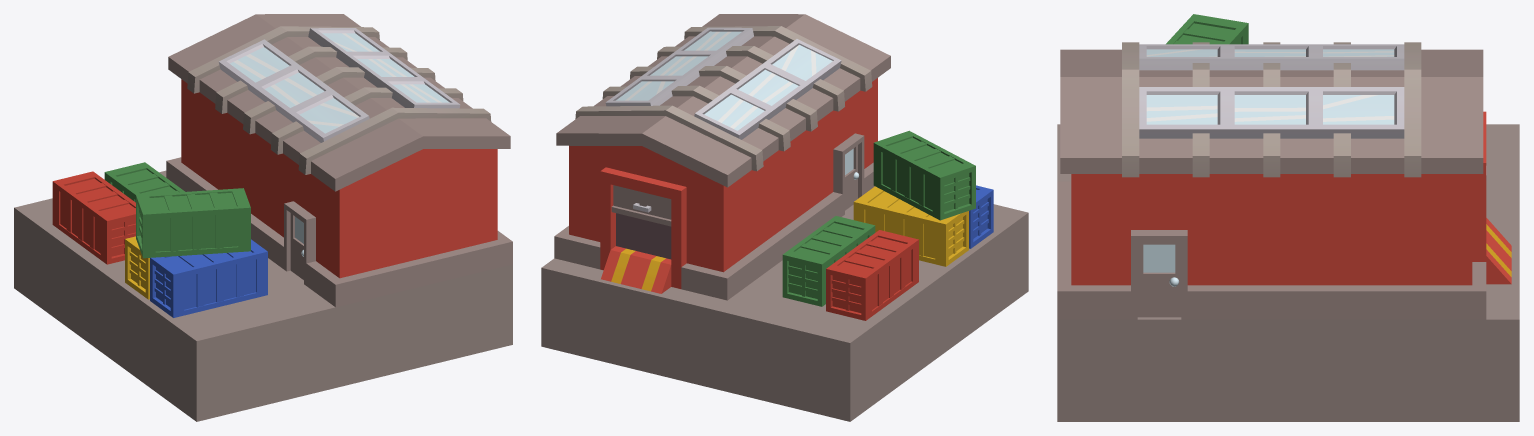
The model's file is Red_Warehouse.fbx.
3 renders of one model, left to right at view 1: azimuth 30°, elevation 25°; view 2: azimuth 150°, elevation 25°; view 3: azimuth 270°, elevation 25°, orthographic. The views are drawn at different scales.
Parts seen in each view (by area): view 1: Red_Warehouse; view 2: Red_Warehouse; view 3: Red_Warehouse.
Part boxes in pixels (box(x1,y1,x2,y2)): Red_Warehouse: box(14, 14, 512, 421); Red_Warehouse: box(541, 14, 1028, 421); Red_Warehouse: box(1057, 14, 1519, 421).
Size of the model in its own units: 406 by 284 by 400.
